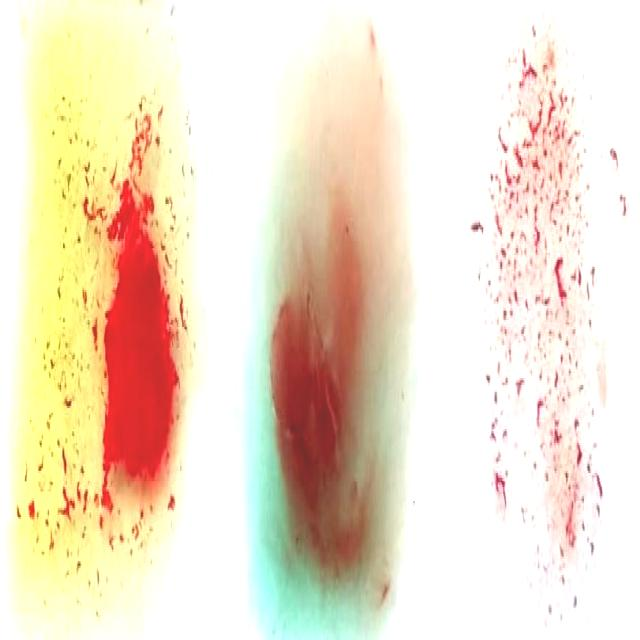B: (19, 8, 183, 640)
D: (477, 18, 606, 610)
